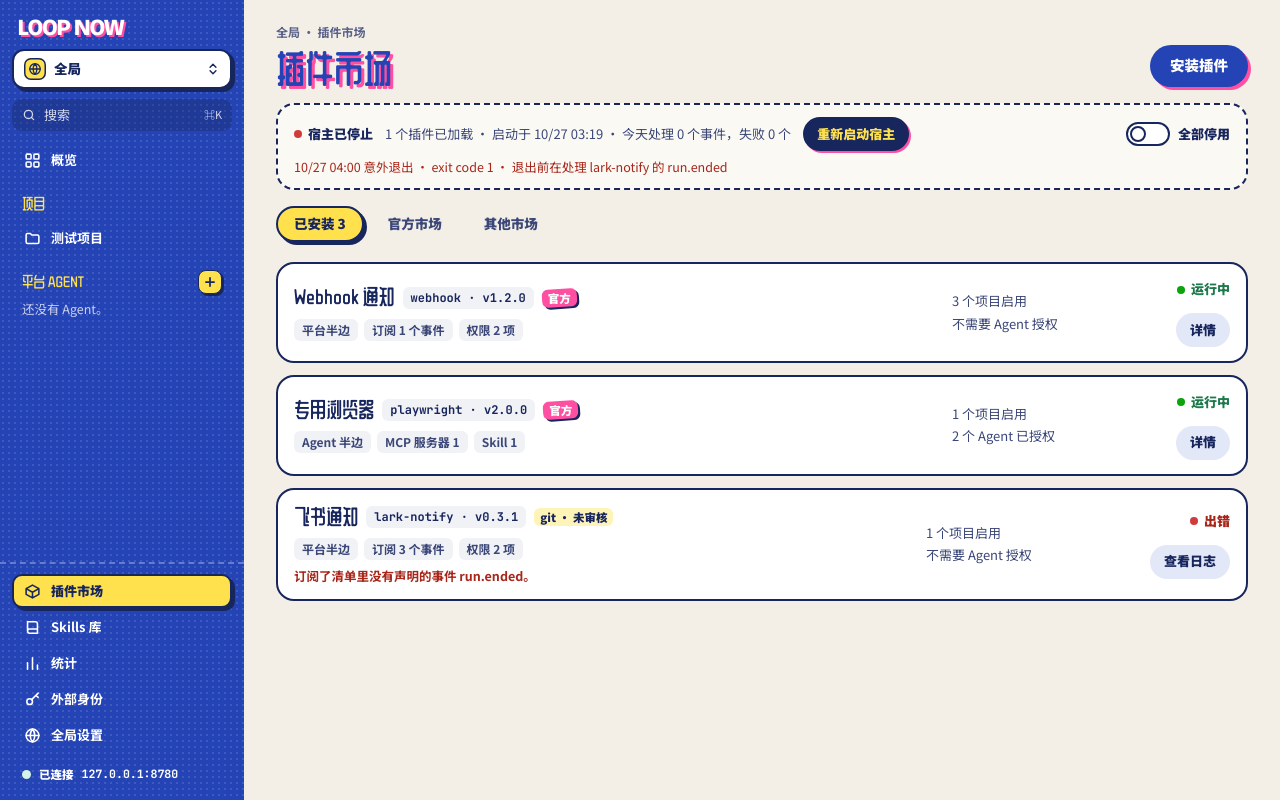
Scenario: 插件市场 › 宿主停了：写出崩溃时在处理什么，可以重新启动
Expected: the element named "插件宿主" shows "宿主已停止", [308, 126, 373, 142]
Expected: the element named "插件宿主" shows "exit code 1", [294, 159, 728, 175]
Click the button "重新启动宿主" at coordinates (856, 134), box [803, 117, 909, 151]
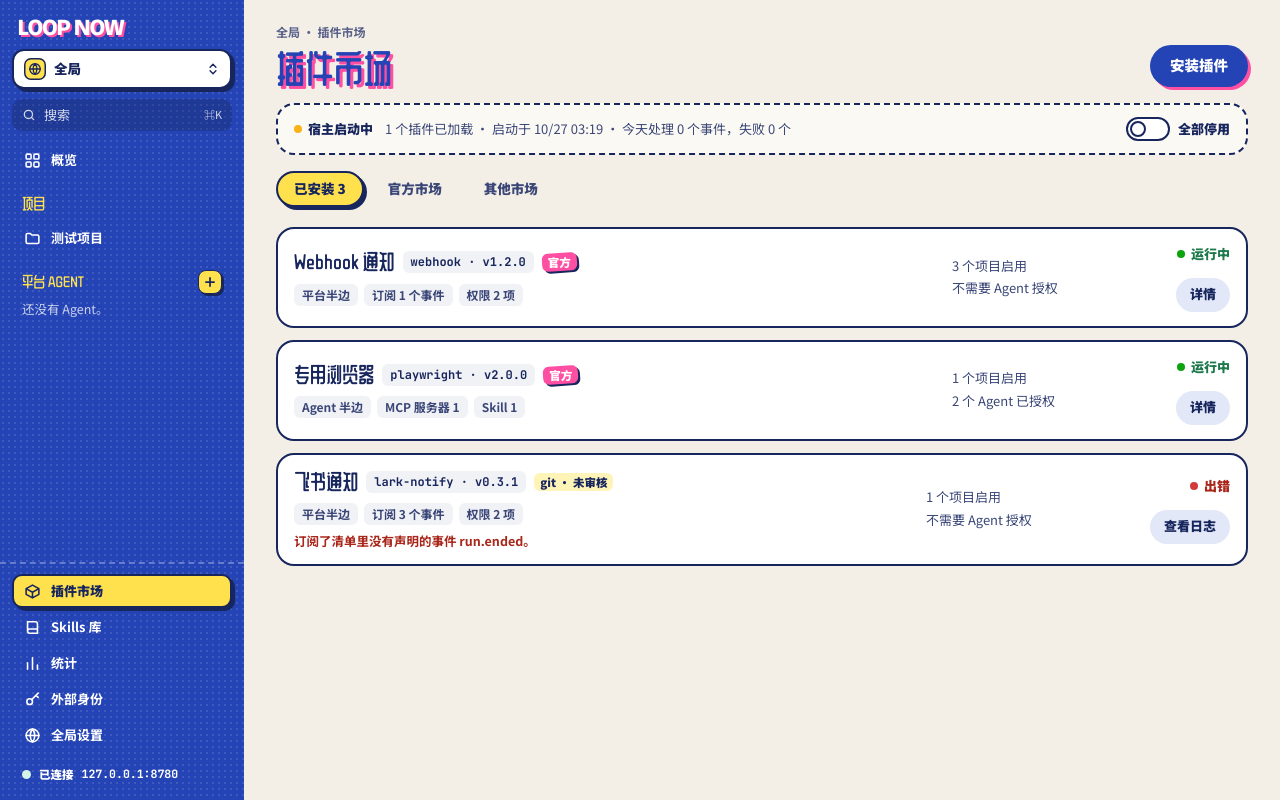
Expected: the element named "插件宿主" shows "宿主启动中", [308, 121, 373, 137]
